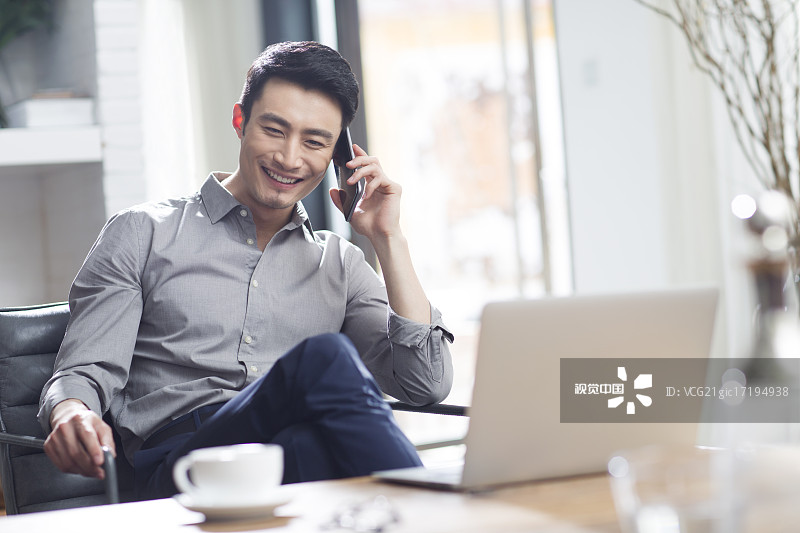calling: (324, 131, 422, 258)
